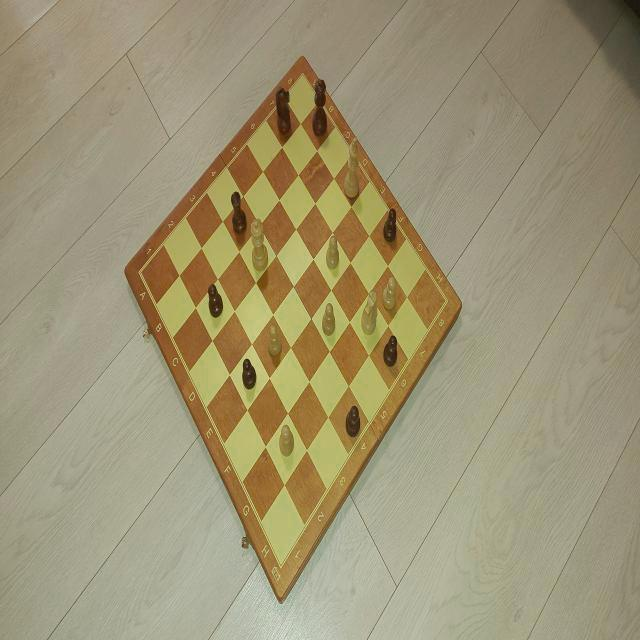chess-table-corners: (270, 544, 292, 582), (432, 284, 453, 318), (134, 256, 152, 290), (294, 64, 309, 92)
